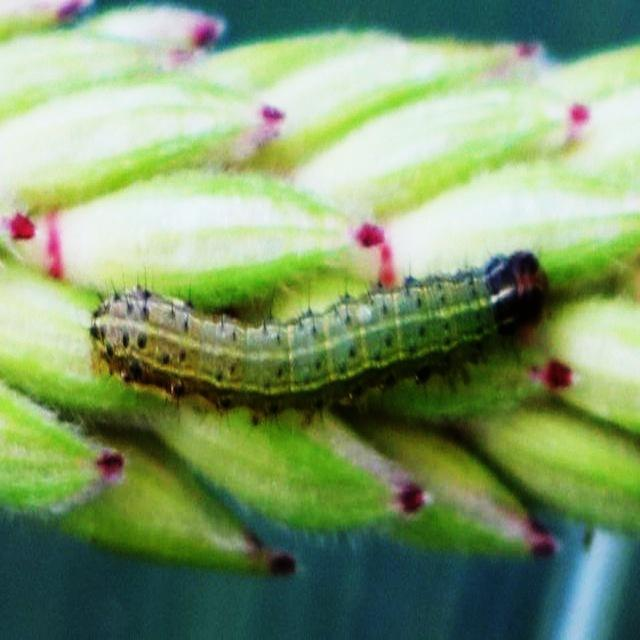gusano_cogollero: (99, 242, 546, 410)
